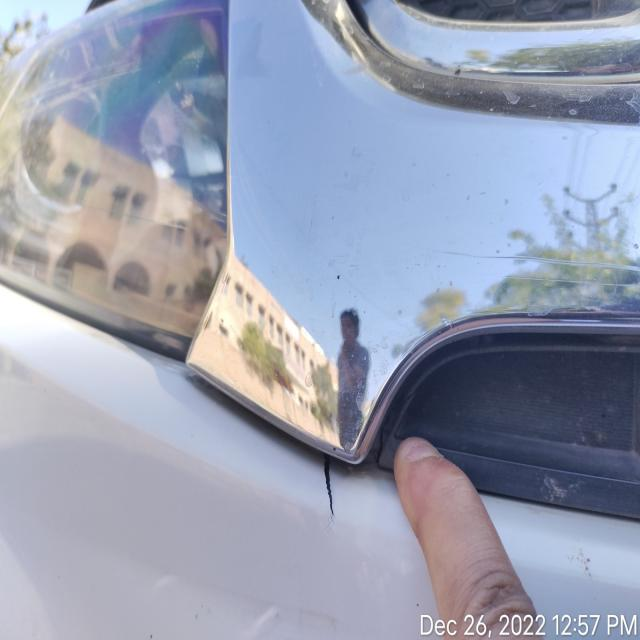damage: (314, 462, 339, 516)
